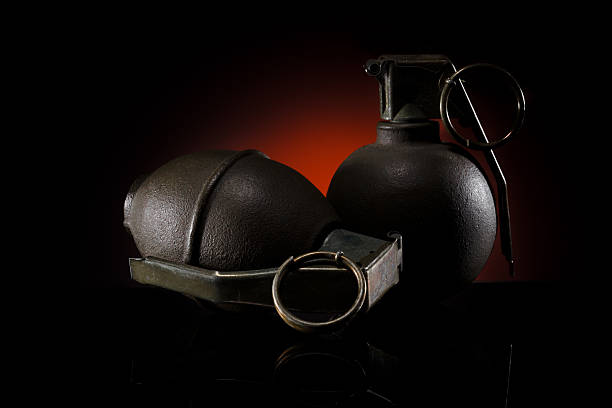e1: (118, 146, 404, 332)
